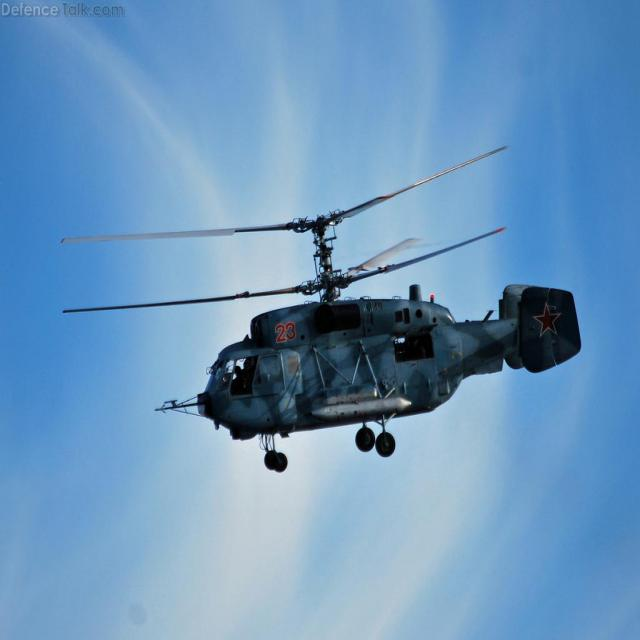MIL_HELO: (35, 137, 627, 477)
